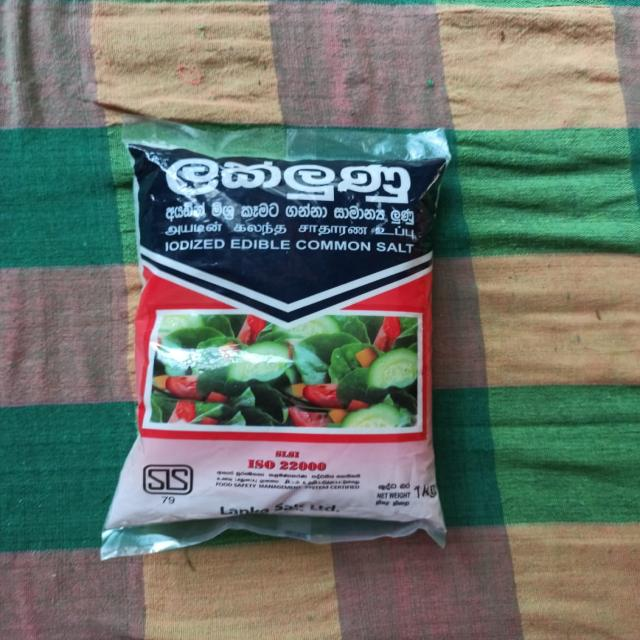Lak Lunu: (57, 103, 473, 584)
